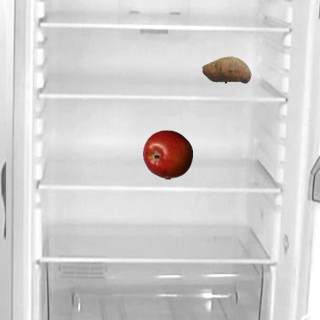Apple Braeburn: (142, 129, 192, 179)
Potato Sweet: (201, 44, 251, 94)
